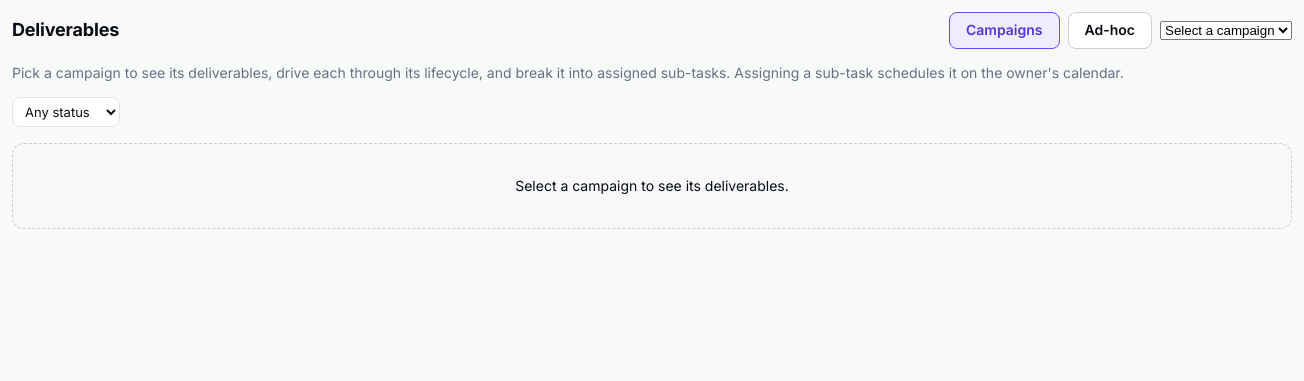
Scenario: DeliverablesPage (ADR-0024, I2 breakdown surface) › marks the tasks nobody is on, so planned and forgotten do not look the same
The image size is (1304, 381).
Step 1. Select "Spring Launch" in the dropdown with test id "deliverables-campaign" → point(1226, 30), box [1160,21,1292,40]
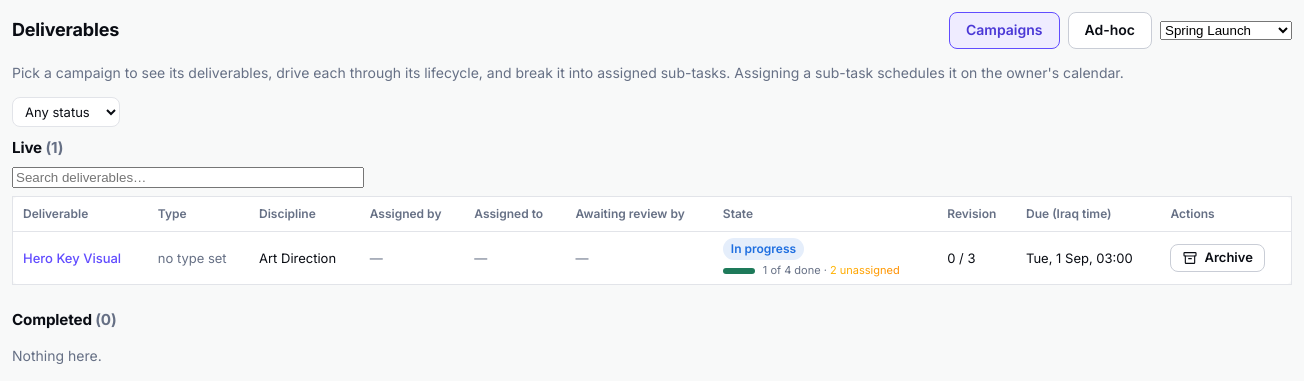
expect the cell with test id "deliverable-phase-d1" shows "In progress": met, box [731,240,796,256]
expect the cell with test id "deliverable-phase-d1" shows "1 of 4 done": met, box [763,262,821,276]
expect the cell with test id "deliverable-phase-d1" shows "2 unassigned": met, box [830,262,900,276]
